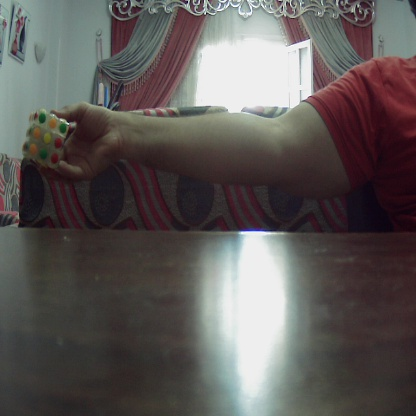Rubix Cube: (24, 111, 66, 168)
